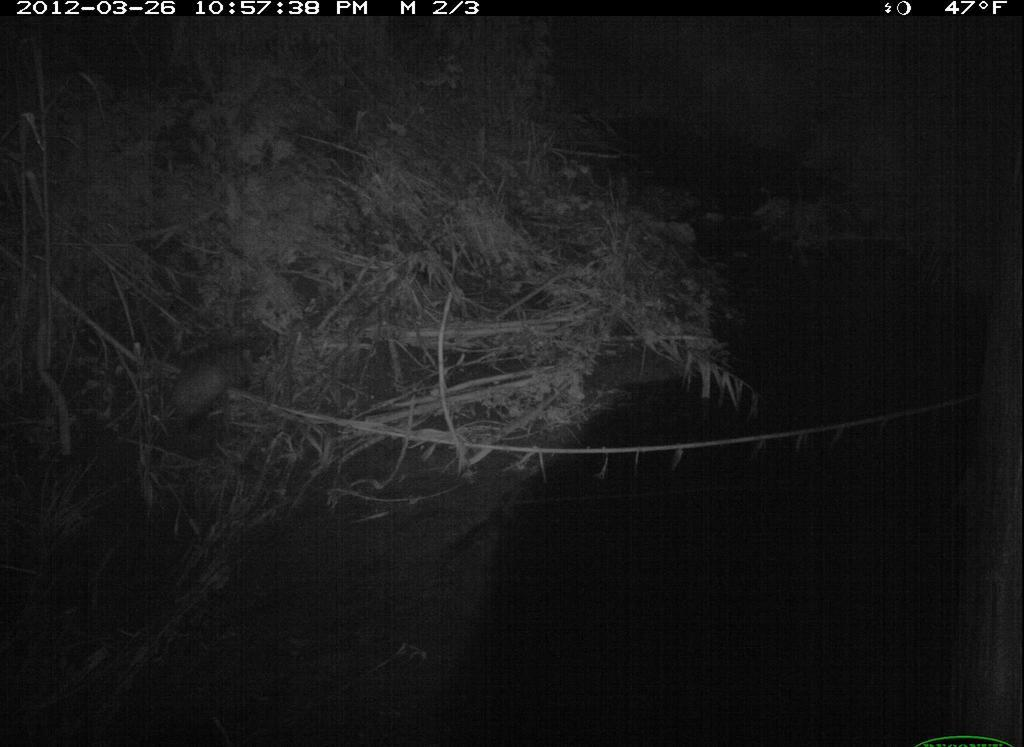opossum: (148, 323, 269, 456)
